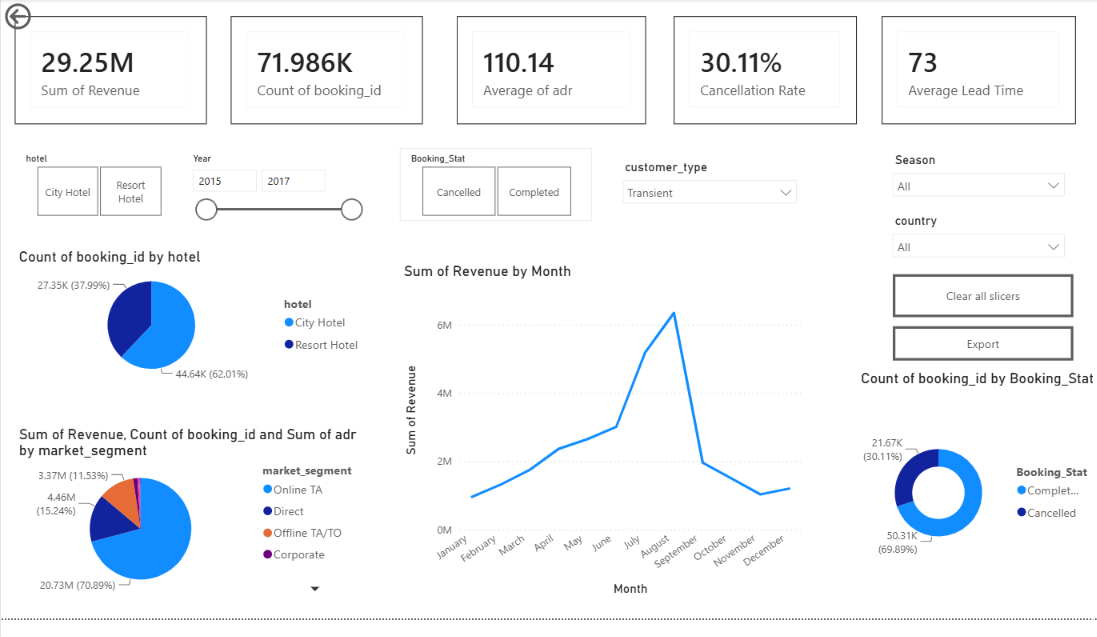

The dashboard page shown, as its layout file describes it:
{"tool":"powerbi","page":{"name":"Page 1","canvas":[1280,720],"ordinal":0},"visuals":[{"type":"cardVisual","fields":{"Data":["Sum(Hotel Bookings.Revenue)"]},"box":[15.7,20,222.9,125.7],"z":0},{"type":"cardVisual","fields":{"Data":["Count(Hotel Bookings.booking_id)"]},"box":[267.1,20,222.9,125.7],"z":1000},{"type":"cardVisual","fields":{"Data":["Avg(Hotel Bookings.adr)"]},"box":[530,20,220,125.7],"z":2000},{"type":"cardVisual","fields":{"Data":["Hotel Bookings.Cancellation Rate"]},"box":[782.9,20,212.9,125.7],"z":3000},{"type":"cardVisual","fields":{"Data":["Hotel Bookings.Average Lead Time"]},"box":[1024.3,20,225.7,125.7],"z":4000},{"type":"slicer","fields":{"Values":["Hotel Bookings.hotel"]},"box":[15.7,172.9,194.3,85.7],"z":5000},{"type":"slicer","fields":{"Values":["Hotel Bookings.Booking_Stat"]},"box":[464.3,172.9,222.9,85.7],"z":6000},{"type":"slicer","fields":{"Values":["Hotel Bookings.Arrival_date.Variation.Date Hierarchy.Year"]},"box":[210,172.9,218.6,85.7],"z":7000},{"type":"slicer","fields":{"Values":["Hotel Bookings.customer_type"]},"box":[712.9,181.4,222.9,80],"z":8000},{"type":"slicer","fields":{"Values":["Hotel Bookings.Season"]},"box":[1027.1,172.9,220,95.7],"z":9000},{"type":"actionButton","box":[0,0,100,40],"z":10000},{"type":"slicer","fields":{"Values":["Hotel Bookings.country"]},"box":[1027.1,244.3,220,91.4],"z":11000},{"type":"pieChart","fields":{"Category":["Hotel Bookings.hotel"],"Y":["Count(Hotel Bookings.booking_id)"]},"box":[15.7,290,412.9,160],"z":12000},{"type":"lineChart","fields":{"Category":["Hotel Bookings.Arrival_date.Variation.Date Hierarchy.Month"],"Y":["Sum(Hotel Bookings.Revenue)"]},"box":[464.3,305.7,471.4,392.9],"z":13000},{"type":"pieChart","fields":{"Category":["Hotel Bookings.market_segment"],"Y":["Sum(Hotel Bookings.Revenue)"]},"box":[15.7,495.7,412.9,202.9],"z":14000},{"type":"donutChart","fields":{"Category":["Hotel Bookings.Booking_Stat"],"Y":["CountNonNull(Hotel Bookings.booking_id)"]},"box":[995.7,430,284.3,268.6],"z":15000},{"type":"actionButton","box":[1037.1,320,210,50],"z":16000},{"type":"actionButton","title":"Export","box":[1037.1,380,210,40],"z":17000}]}

Visuals, with their boxes on the page's 1280x720 design canvas (x1, y1, x2, y2). These are canvas units, not pixel positions in the 1097x637 screenshot, which may show the page scaled, cropped or inside an application window:
cardVisual - Sum(Hotel Bookings.Revenue): <box>16,20,239,146</box>
cardVisual - Count(Hotel Bookings.booking_id): <box>267,20,490,146</box>
cardVisual - Avg(Hotel Bookings.adr): <box>530,20,750,146</box>
cardVisual - Hotel Bookings.Cancellation Rate: <box>783,20,996,146</box>
cardVisual - Hotel Bookings.Average Lead Time: <box>1024,20,1250,146</box>
slicer - Hotel Bookings.hotel: <box>16,173,210,259</box>
slicer - Hotel Bookings.Booking_Stat: <box>464,173,687,259</box>
slicer - Hotel Bookings.Arrival_date.Variation.Date Hierarchy.Year: <box>210,173,429,259</box>
slicer - Hotel Bookings.customer_type: <box>713,181,936,261</box>
slicer - Hotel Bookings.Season: <box>1027,173,1247,269</box>
actionButton: <box>0,0,100,40</box>
slicer - Hotel Bookings.country: <box>1027,244,1247,336</box>
pieChart - Hotel Bookings.hotel x Count(Hotel Bookings.booking_id): <box>16,290,429,450</box>
lineChart - Hotel Bookings.Arrival_date.Variation.Date Hierarchy.Month x Sum(Hotel Bookings.Revenue): <box>464,306,936,699</box>
pieChart - Hotel Bookings.market_segment x Sum(Hotel Bookings.Revenue): <box>16,496,429,699</box>
donutChart - Hotel Bookings.Booking_Stat x CountNonNull(Hotel Bookings.booking_id): <box>996,430,1280,699</box>
actionButton: <box>1037,320,1247,370</box>
"Export" actionButton: <box>1037,380,1247,420</box>
